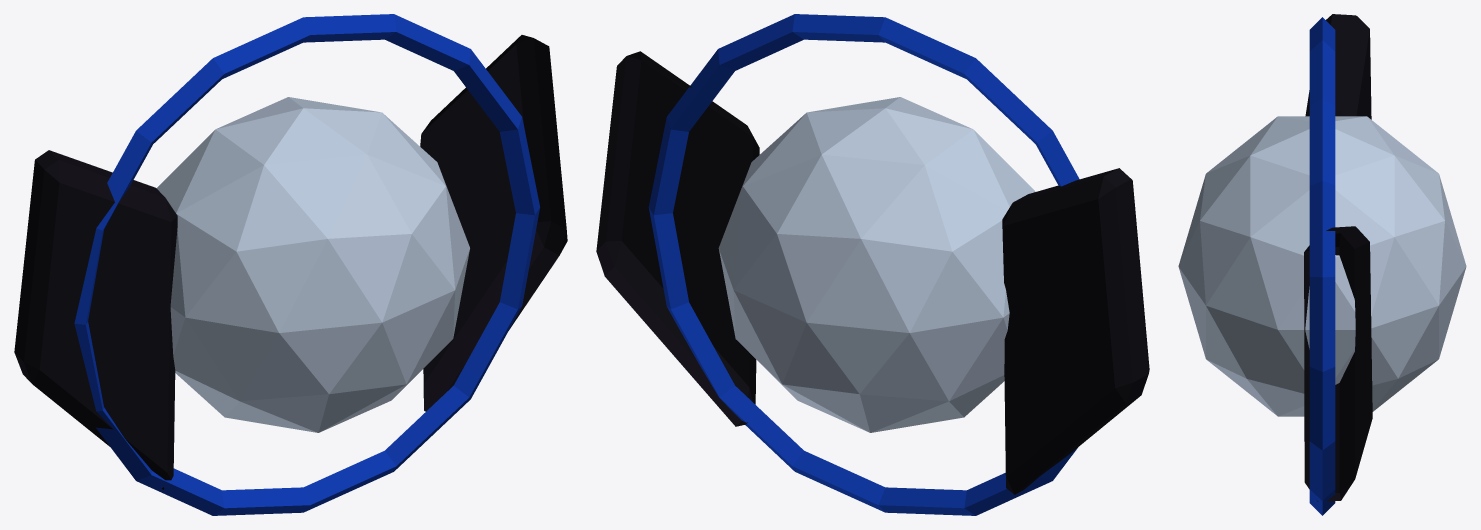
The model's file is abyssal_pearl.obj.
The picture shows the model from 3 angles, left to right: view 1: azimuth 30°, elevation 25°; view 2: azimuth 150°, elevation 25°; view 3: azimuth 270°, elevation 25°; orthographic projection. The views are drawn at different scales.
Parts seen in each view (by area): view 1: AbyssalPearl.001_MAT_Pearl, AbyssalShellL.001_MAT_Obsidian, AbyssalHalo.001_MAT_Sapphire, AbyssalShellR.001_MAT_Obsidian; view 2: AbyssalPearl.001_MAT_Pearl, AbyssalShellL.001_MAT_Obsidian, AbyssalShellR.001_MAT_Obsidian, AbyssalHalo.001_MAT_Sapphire; view 3: AbyssalPearl.001_MAT_Pearl, AbyssalHalo.001_MAT_Sapphire, AbyssalShellR.001_MAT_Obsidian, AbyssalShellL.001_MAT_Obsidian.
Boxes of the visible parts, x1=… form: AbyssalPearl.001_MAT_Pearl: x1=156, y1=97, x2=469, y2=432; AbyssalShellL.001_MAT_Obsidian: x1=14, y1=150, x2=177, y2=489; AbyssalHalo.001_MAT_Sapphire: x1=74, y1=14, x2=539, y2=515; AbyssalShellR.001_MAT_Obsidian: x1=420, y1=35, x2=567, y2=419; AbyssalPearl.001_MAT_Pearl: x1=718, y1=97, x2=1035, y2=432; AbyssalShellL.001_MAT_Obsidian: x1=1002, y1=168, x2=1149, y2=494; AbyssalShellR.001_MAT_Obsidian: x1=596, y1=51, x2=759, y2=426; AbyssalHalo.001_MAT_Sapphire: x1=648, y1=14, x2=1079, y2=515; AbyssalPearl.001_MAT_Pearl: x1=1178, y1=116, x2=1466, y2=416; AbyssalHalo.001_MAT_Sapphire: x1=1309, y1=17, x2=1335, y2=515; AbyssalShellR.001_MAT_Obsidian: x1=1304, y1=226, x2=1372, y2=501; AbyssalShellL.001_MAT_Obsidian: x1=1305, y1=14, x2=1371, y2=119.
Size of the model in its own units: 2.47 by 2.15 by 1.24.
